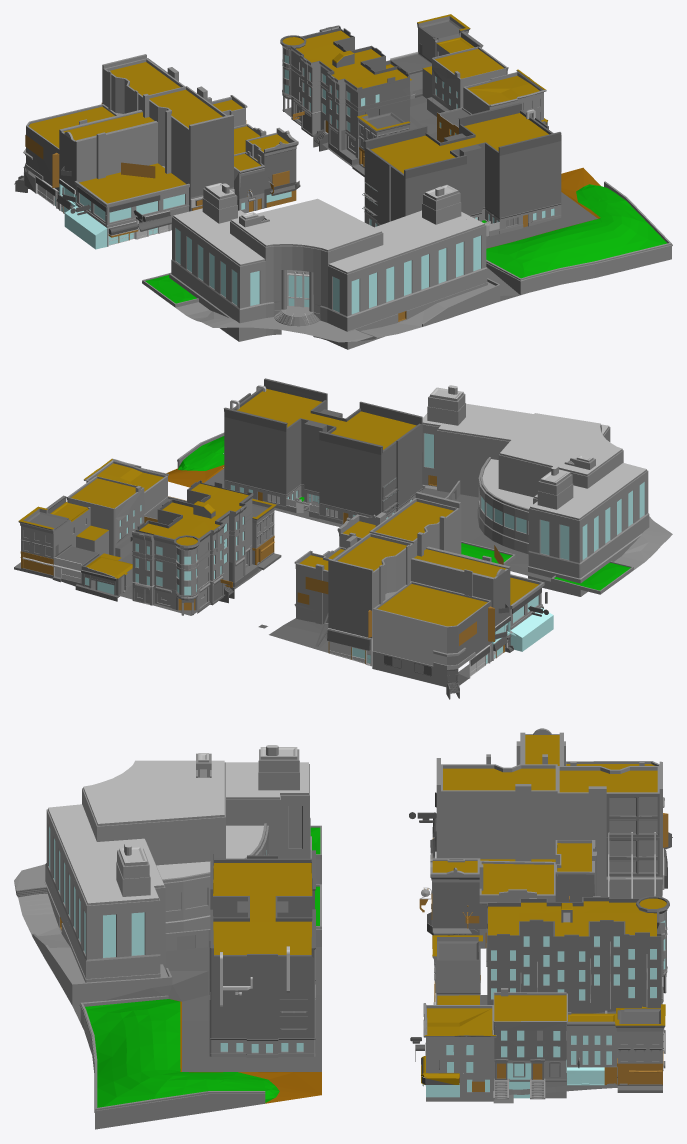
The model's file is brook_n_5.FBX.
The picture shows the model from 3 angles, top to bottom: view 1: azimuth 30°, elevation 25°; view 2: azimuth 150°, elevation 25°; view 3: azimuth 270°, elevation 25°; orthographic projection. The views are drawn at different scales.
Visible parts, largest first — view 1: unnamed, null; view 2: unnamed, null; view 3: unnamed, null.
Boxes of the visible parts, box(x1,y1,x2,y2) form: unnamed: box(14, 14, 547, 349); null: box(349, 102, 672, 324); unnamed: box(14, 403, 672, 699); null: box(166, 378, 509, 526); unnamed: box(14, 728, 672, 1103); null: box(45, 842, 321, 1129).
Size of the model in its own units: 143 by 36.34 by 139.
